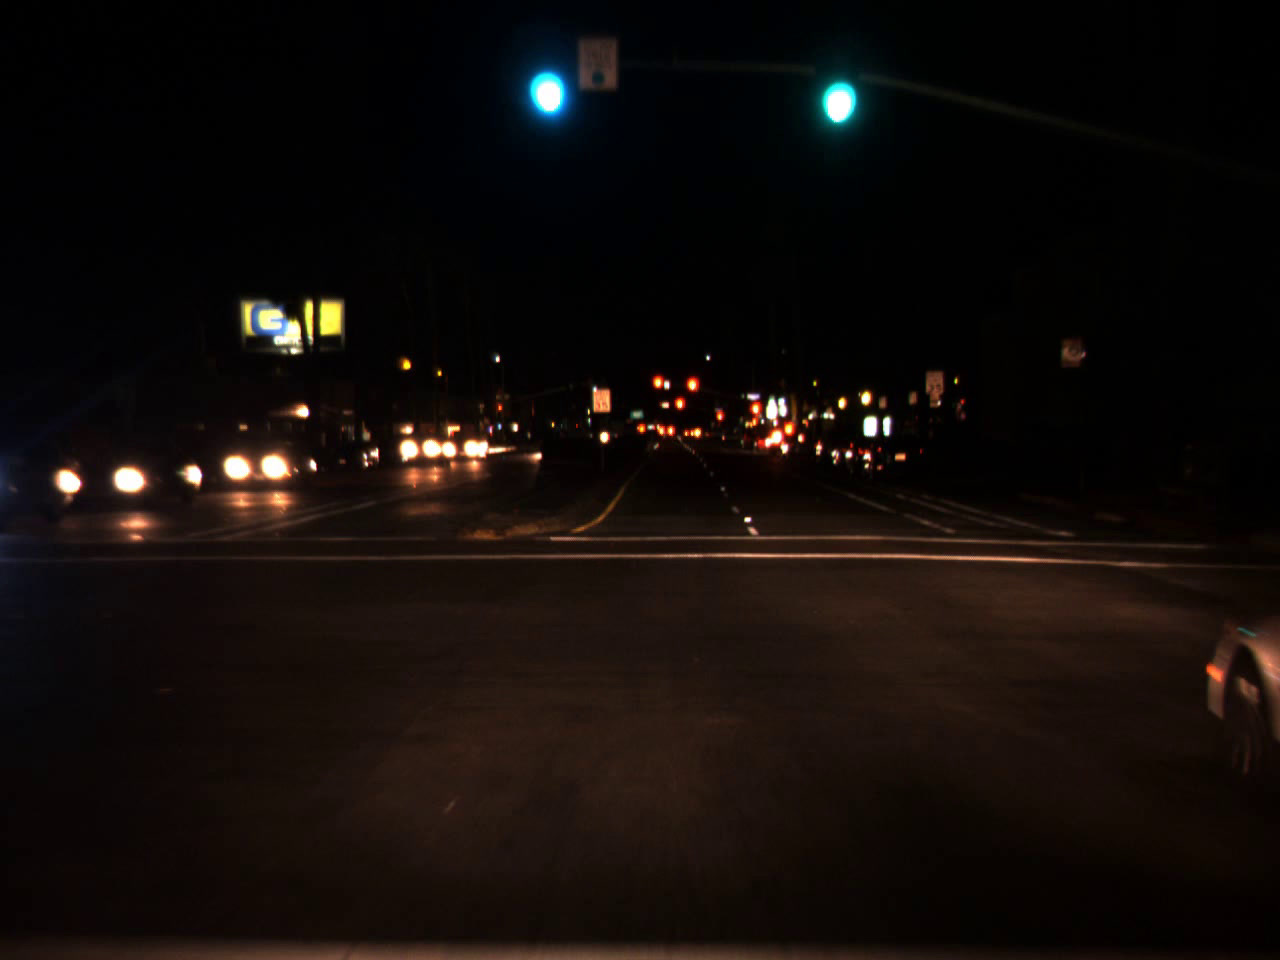go: (813, 47, 858, 134), (527, 40, 566, 124)
stop: (747, 398, 765, 438), (651, 373, 666, 405), (685, 375, 700, 407), (715, 407, 725, 434), (675, 398, 682, 411), (497, 405, 503, 415)
